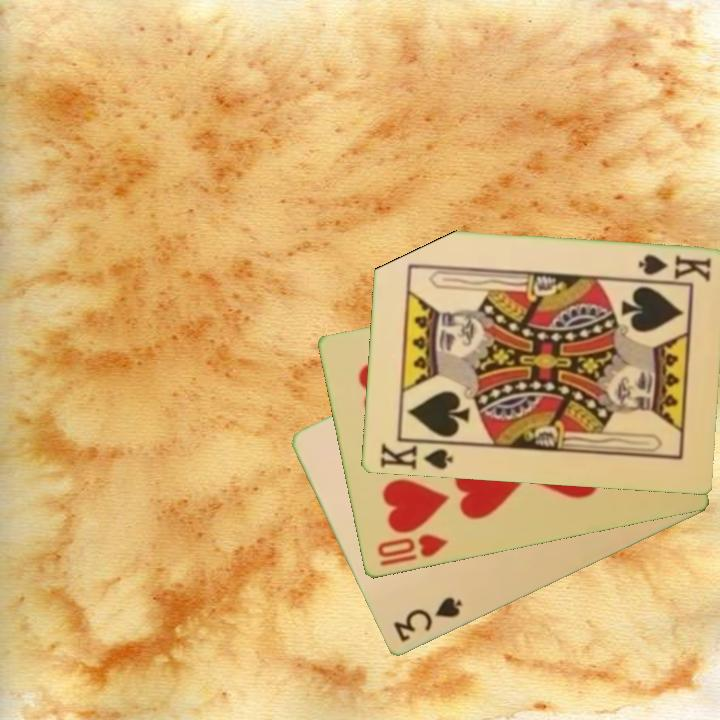10h: (373, 531, 450, 561)
3s: (389, 593, 465, 646)
Ks: (634, 251, 714, 285), (376, 440, 455, 473)
